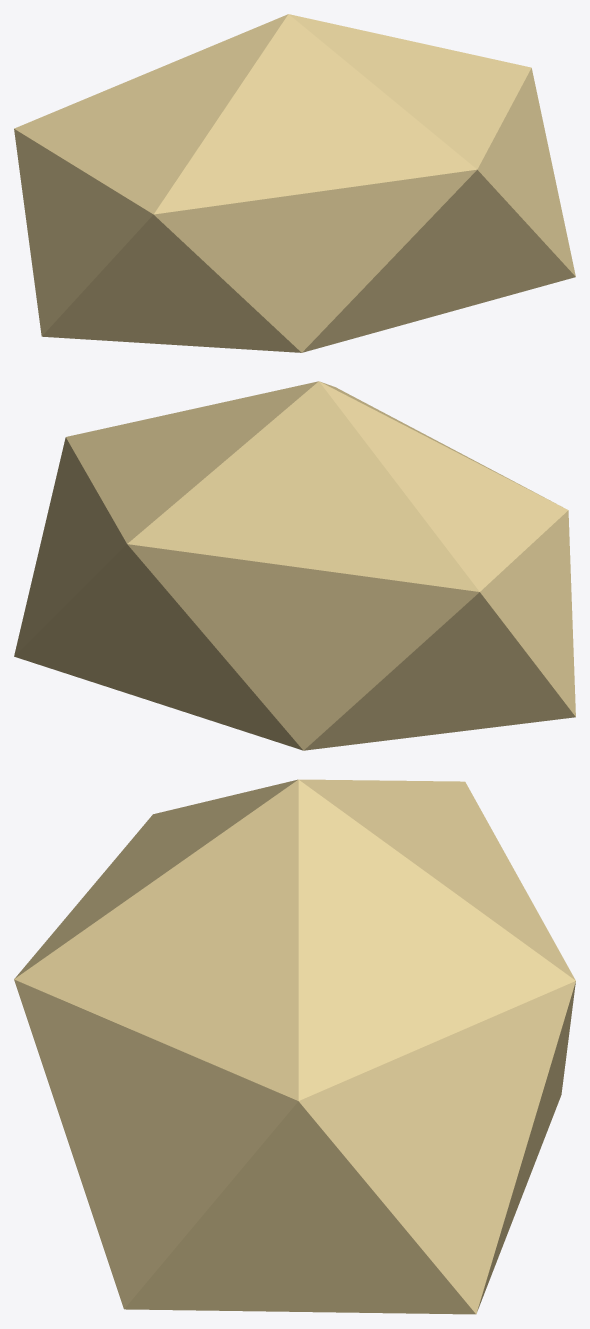
Rendered from item_047_cheese_s.glb.
The picture shows the model from 3 angles, top to bottom: view 1: azimuth 30°, elevation 25°; view 2: azimuth 150°, elevation 25°; view 3: azimuth 270°, elevation 25°; orthographic projection. The views are drawn at different scales.
Parts seen in each view (by area): view 1: item_047_cheese_s; view 2: item_047_cheese_s; view 3: item_047_cheese_s.
Part boxes in pixels (x1,y1,x2,y2): item_047_cheese_s: (14, 14, 575, 352); item_047_cheese_s: (14, 381, 575, 750); item_047_cheese_s: (14, 779, 575, 1314).
Size of the model in its own units: 0.3089 by 0.2027 by 0.2208.
